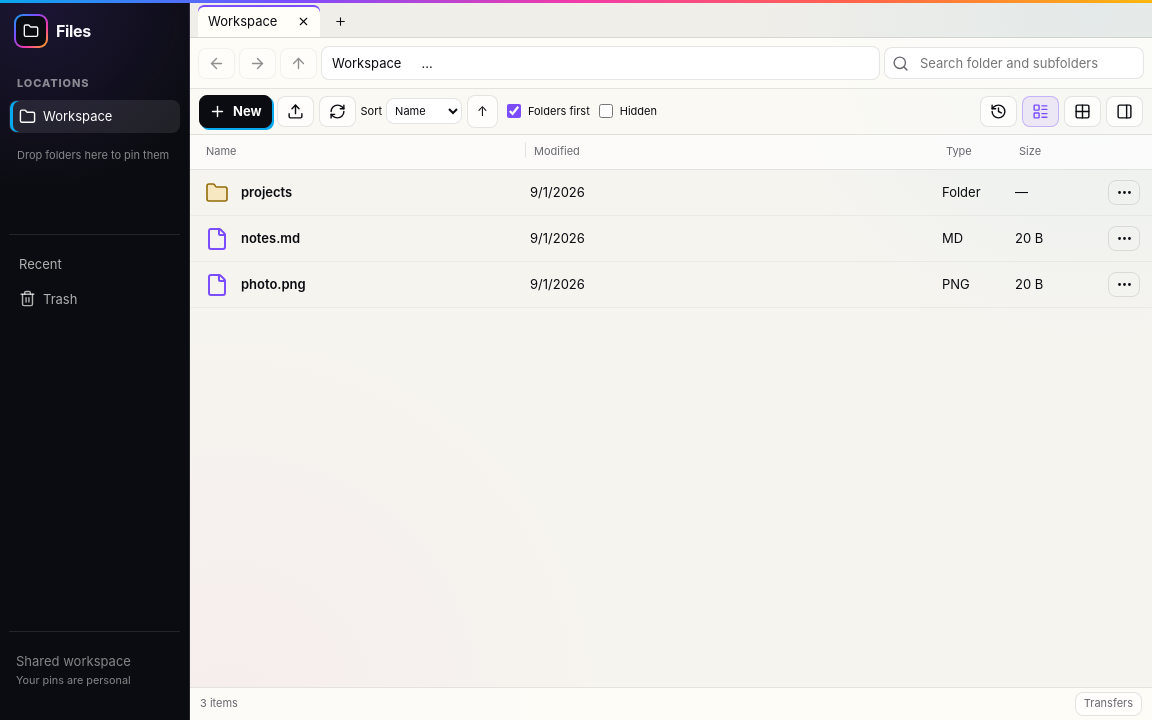
Files explorer › keeps sorting separate from navigation and clears invisible selections on search
The width and height of the screenshot is (1152, 720).
Click the row "photo.png 9/1/2026 PNG 20 B": (671, 285) [190, 262, 1151, 308]
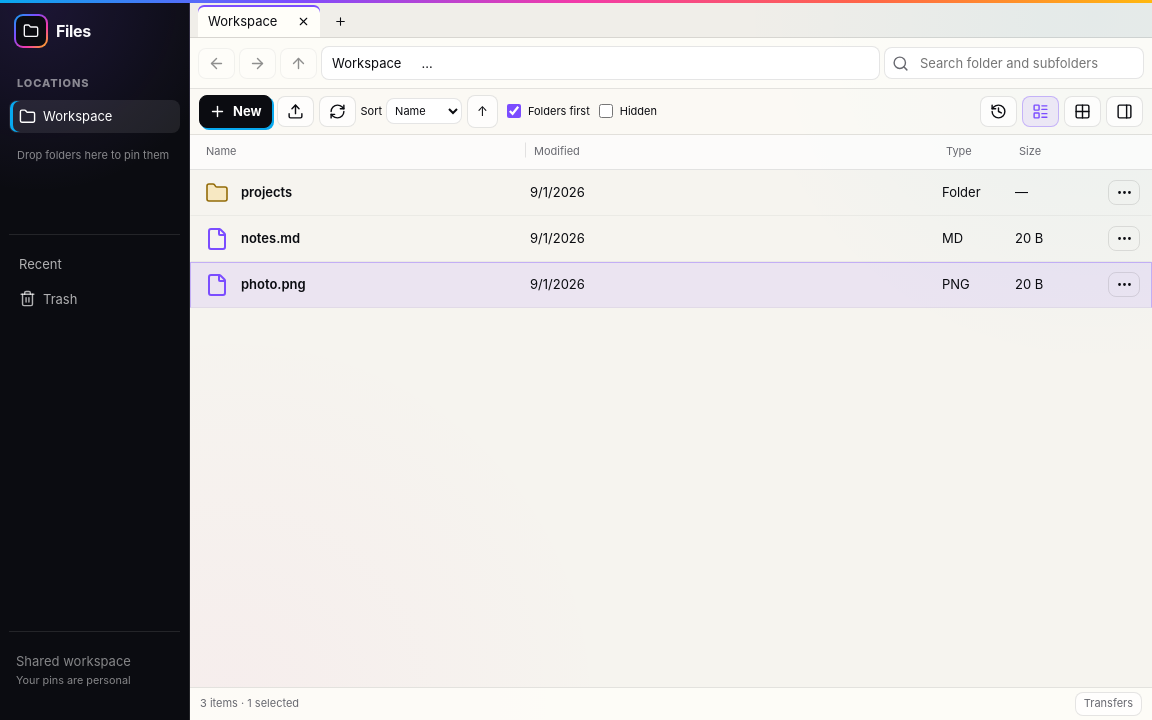
Click the button named "Toggle details": (1124, 112) [1106, 96, 1143, 127]
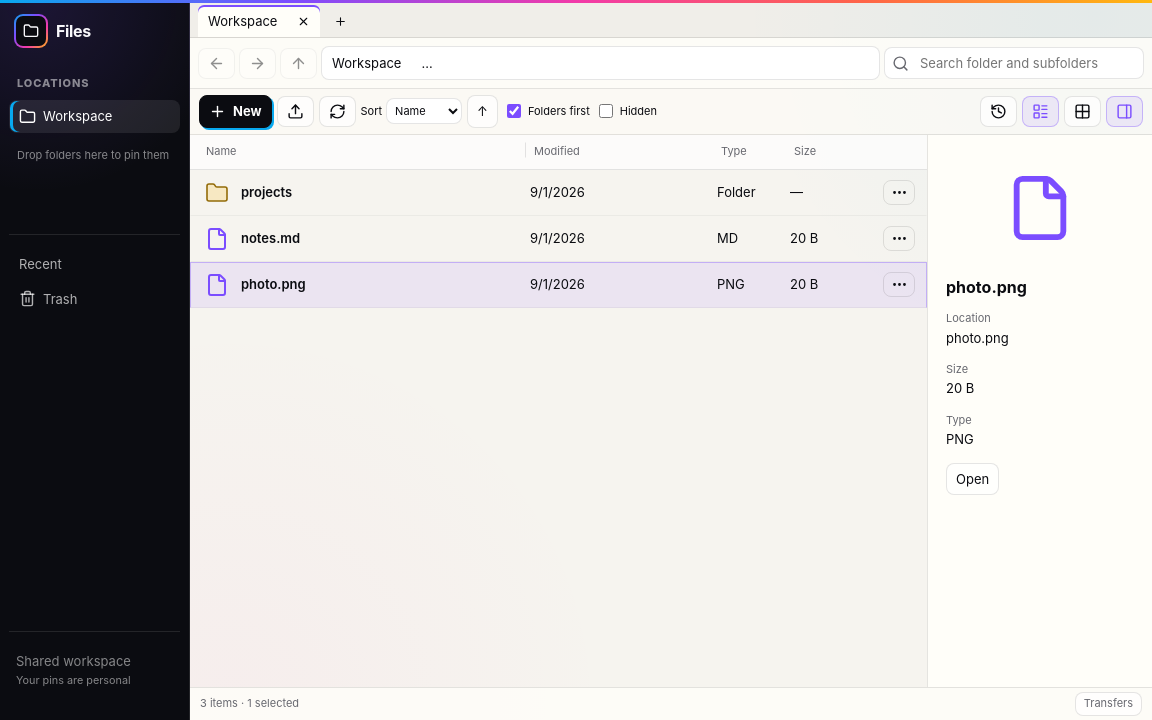
Select "Size" in the dropdown named "Sort by": (424, 112) [386, 98, 462, 124]
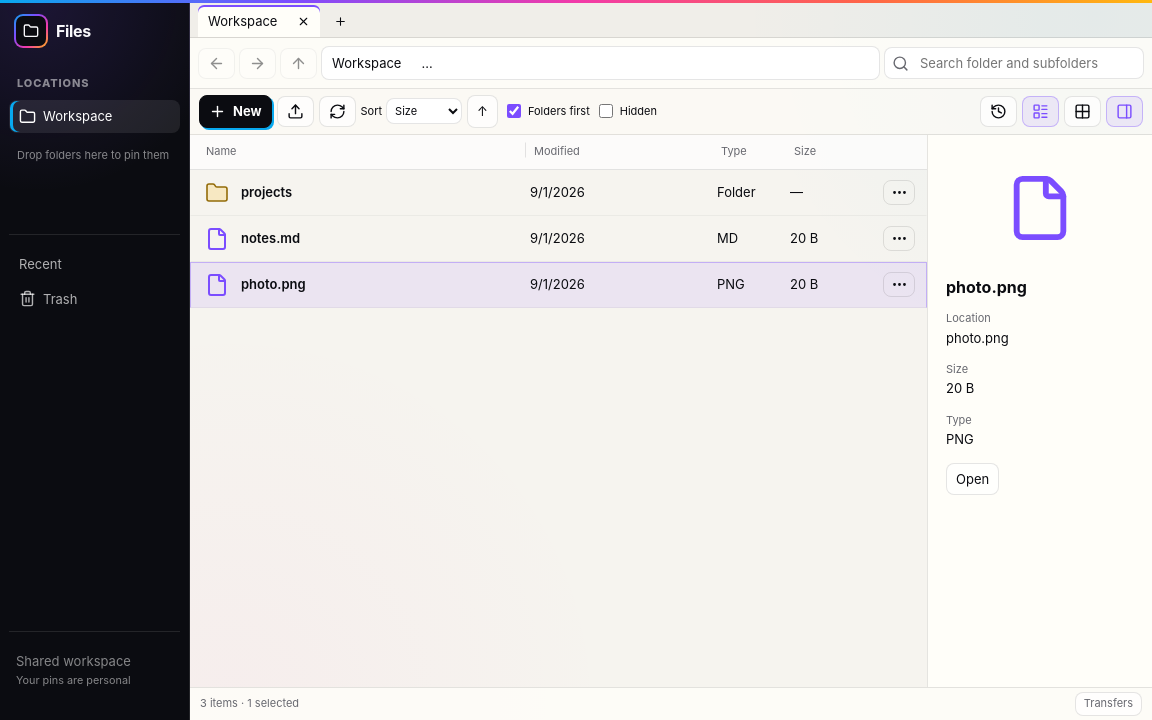
In the search field: (1028, 63) [914, 48, 1143, 78], type "notes"
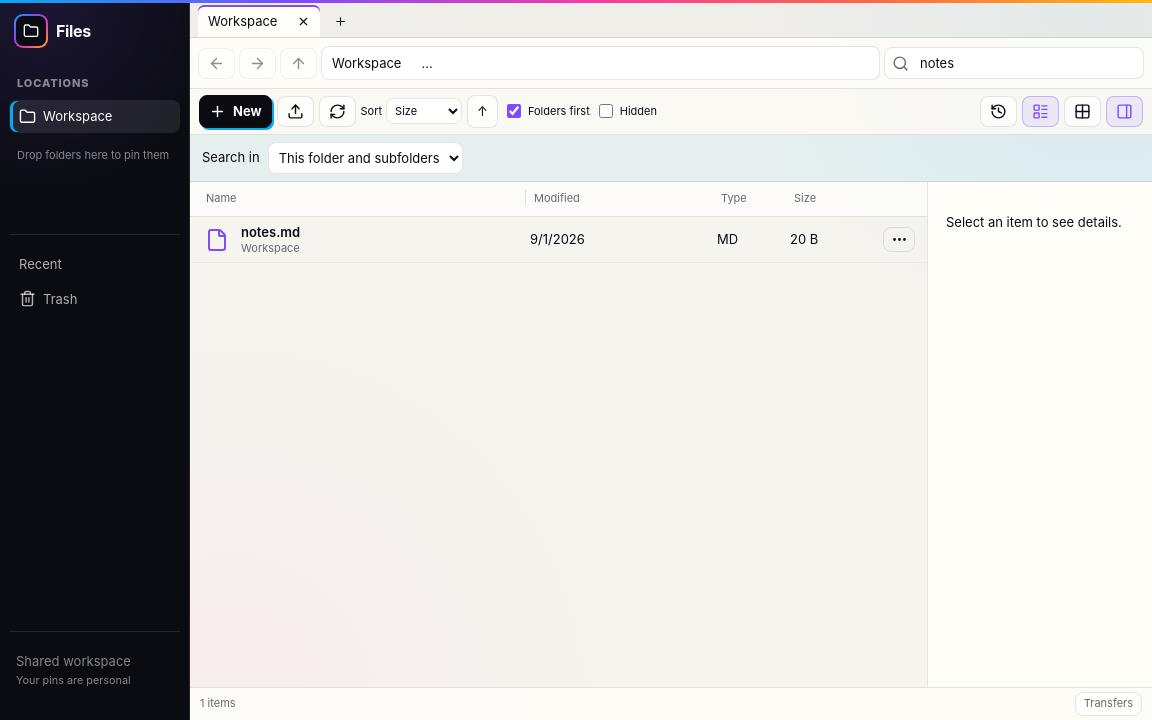
Expected: the text "photo.png" is gone
